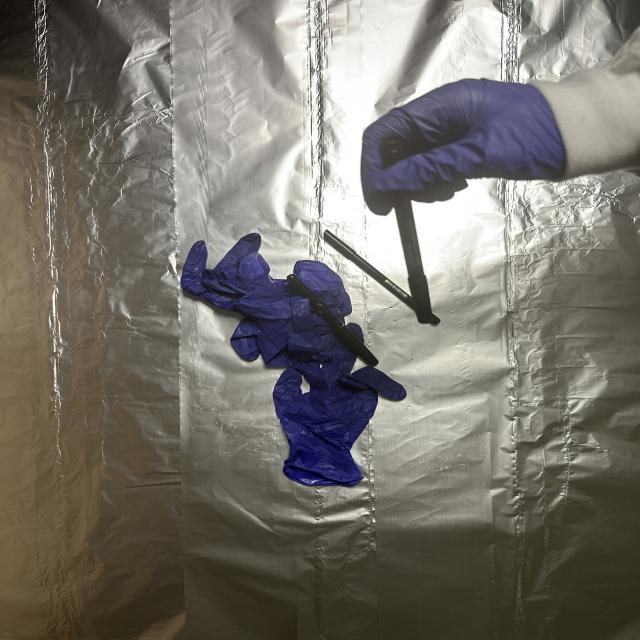gloves_contaminated: (361, 80, 566, 214)
